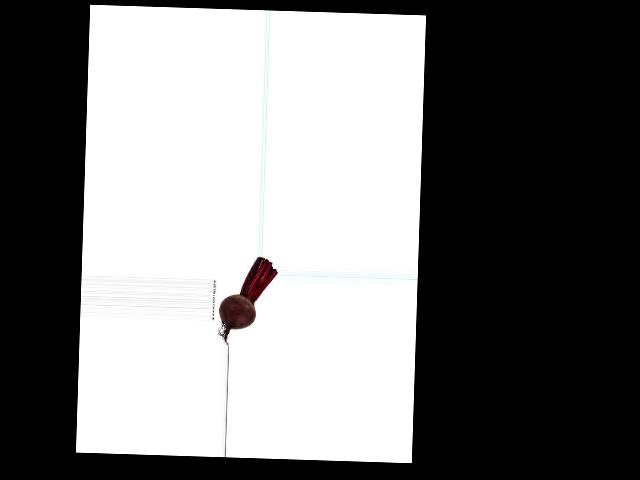beet: (218, 255, 277, 346)
